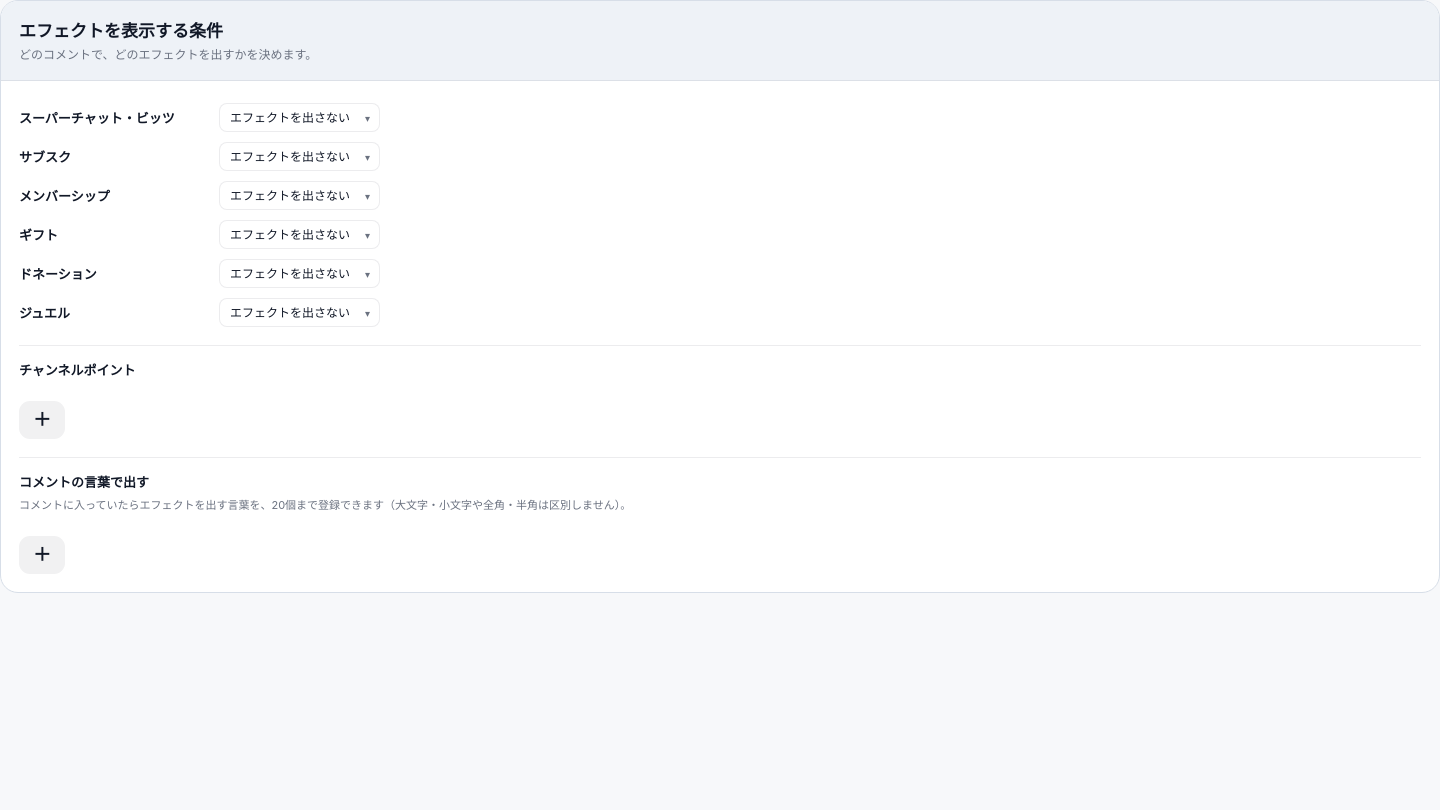
Scenario: 064b: 割り当て先の OBS ソース（画面） › ＋ を押すと 1 行だけ生える（未確定なので、まだ保存されない）
Click the button named "カスタム報酬を追加" at (42, 420), box [19,401,65,439]
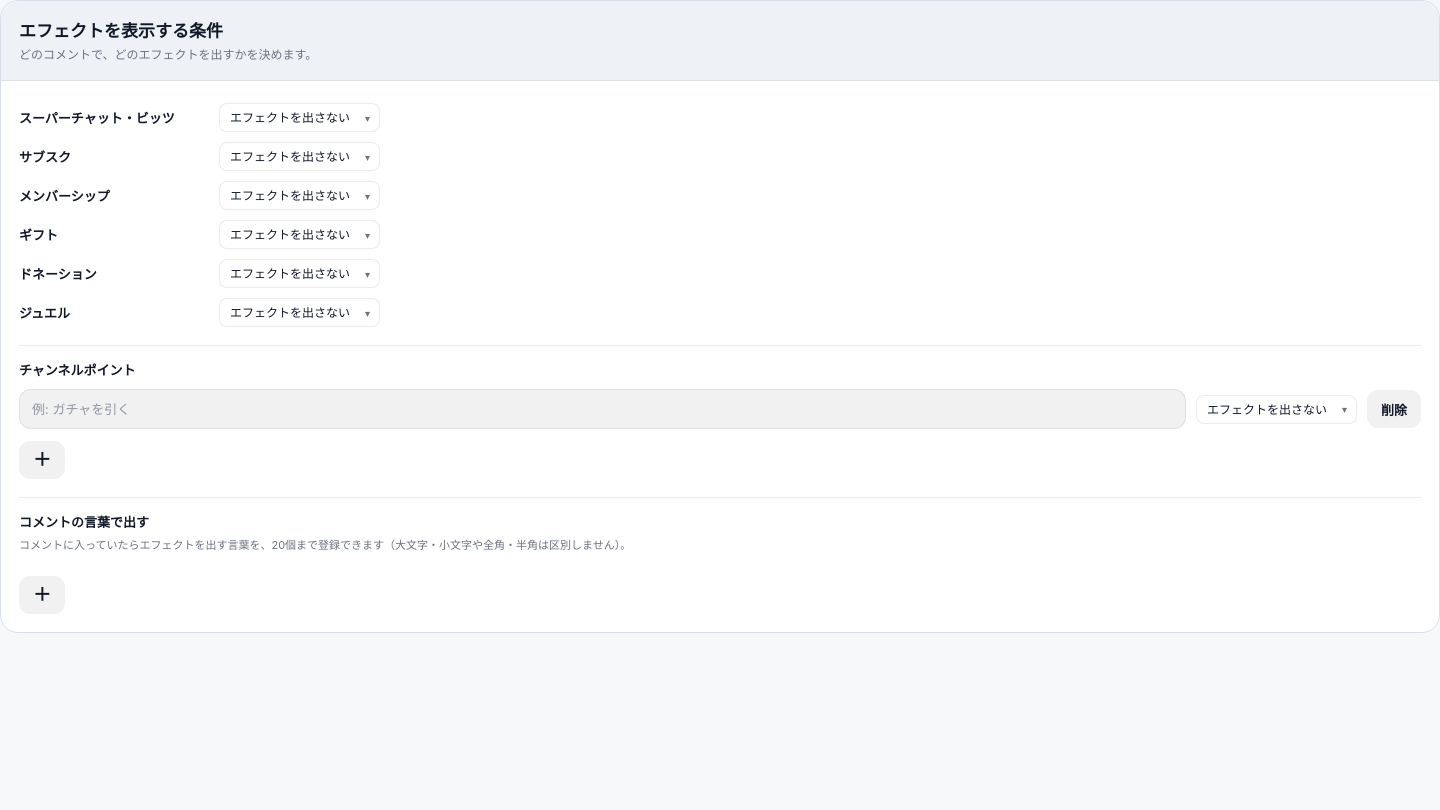
Check: the field named "カスタム報酬の名前 1" is shown, box [19,389,1186,429]
Check: the button named "カスタム報酬を追加" is disabled, box [19,441,65,479]
